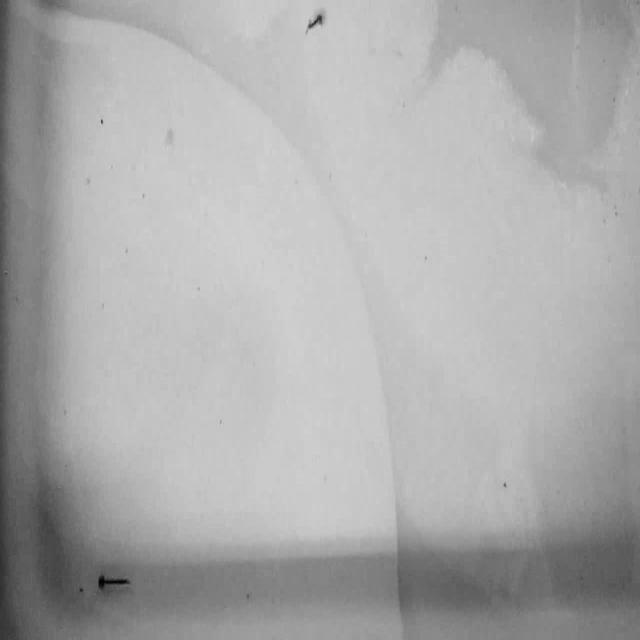larvas: (306, 13, 322, 33)
